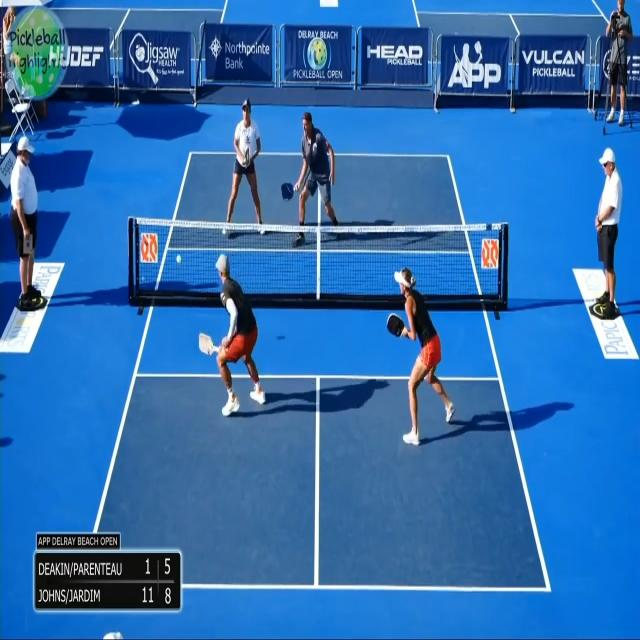ball: (173, 247, 183, 267)
